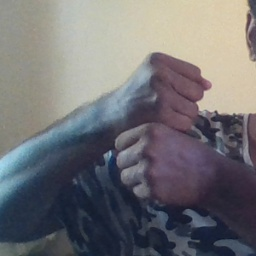G: (113, 47, 214, 204)
